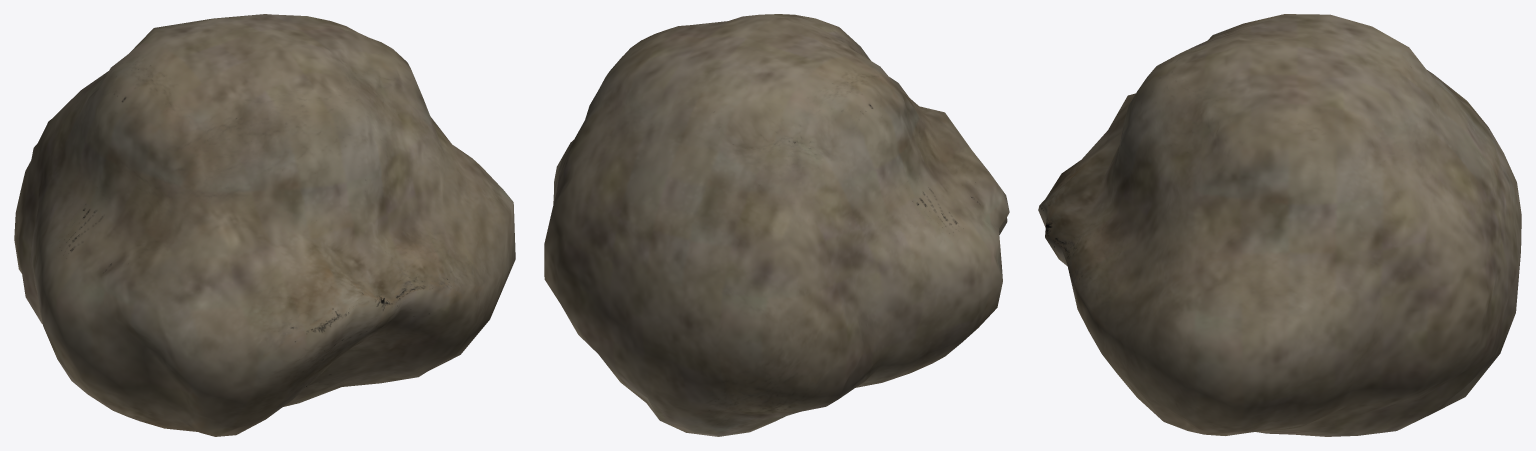
Rendered from RockToo.fbx.
The picture shows the model from 3 angles, left to right: view 1: azimuth 30°, elevation 25°; view 2: azimuth 150°, elevation 25°; view 3: azimuth 270°, elevation 25°; orthographic projection. The views are drawn at different scales.
Visible parts, largest first — view 1: PolyGroup1; view 2: PolyGroup1; view 3: PolyGroup1.
Boxes of the visible parts, x1=… form: PolyGroup1: x1=14, y1=14, x2=515, y2=436; PolyGroup1: x1=544, y1=14, x2=1009, y2=436; PolyGroup1: x1=1038, y1=14, x2=1521, y2=436.
Bounding box in the file's own units: 59.12 × 48.63 × 55.02.
